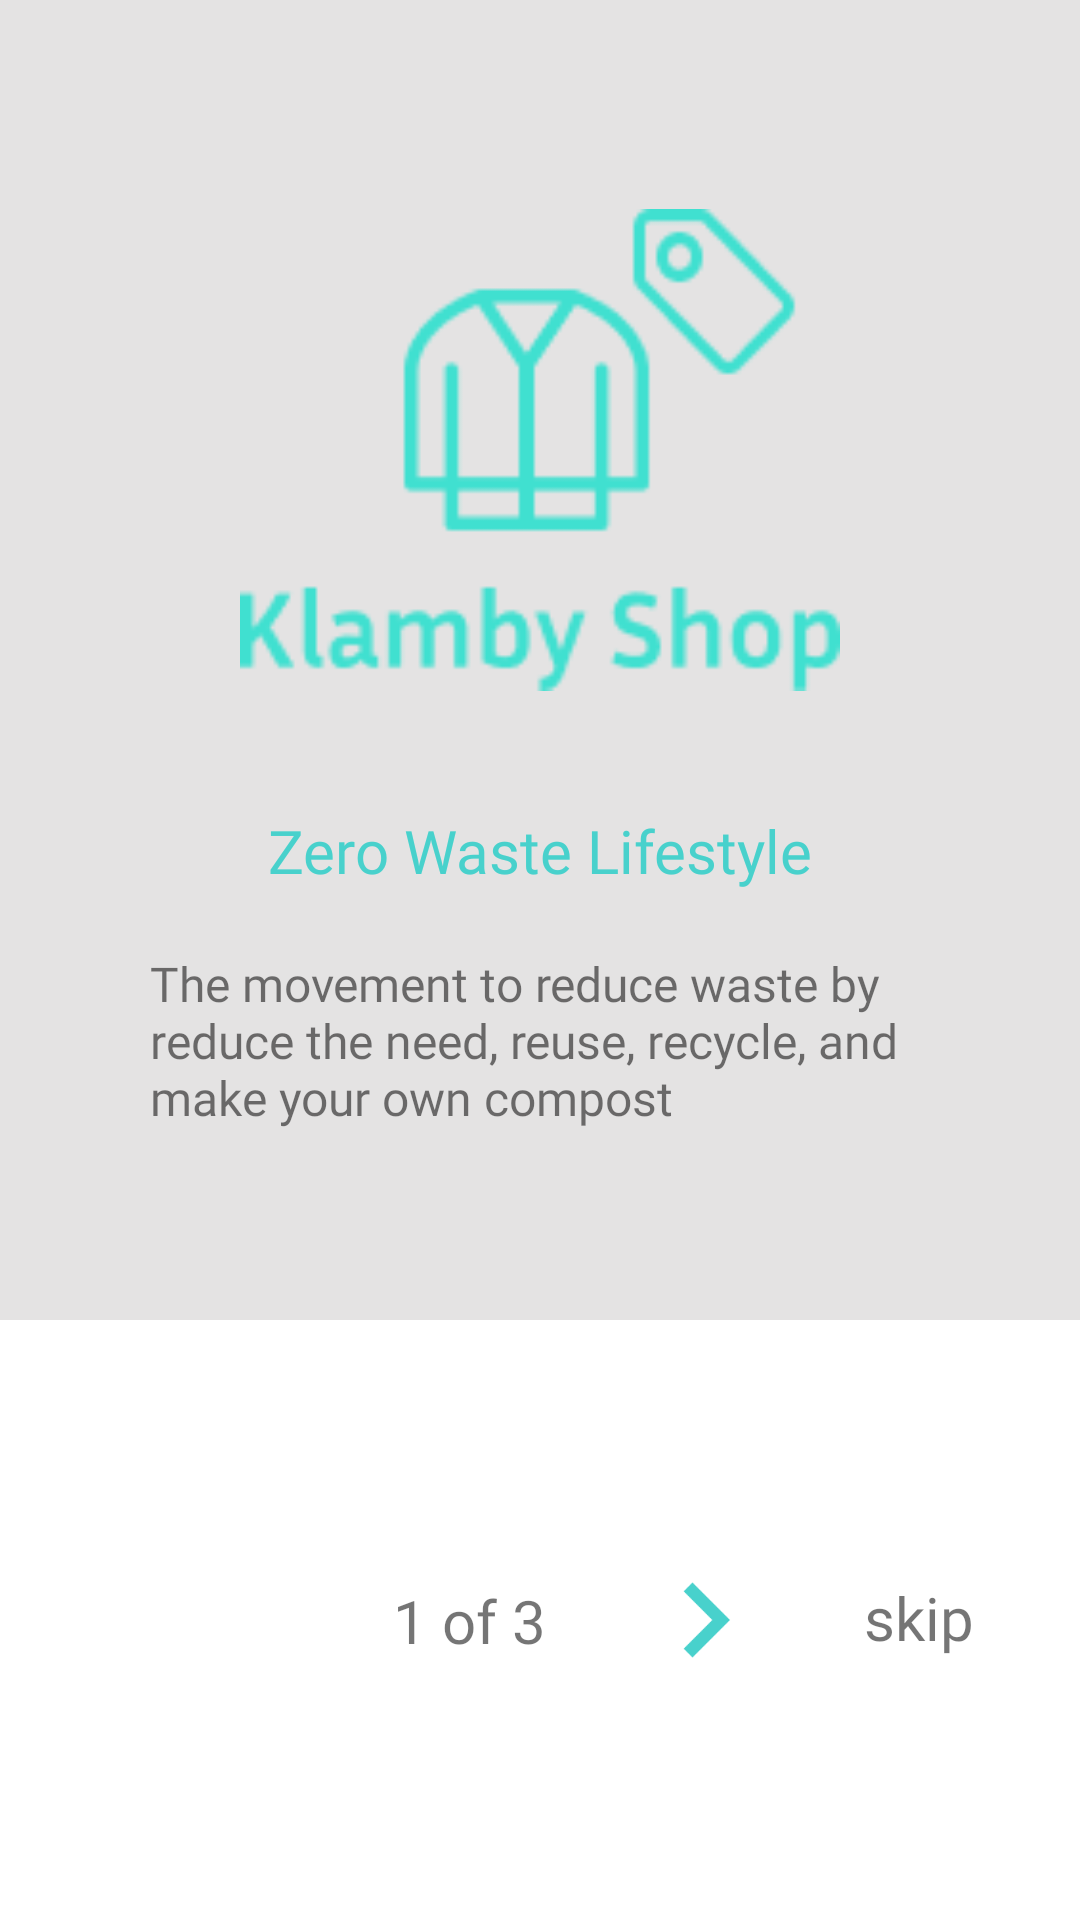

Point at icon controls on the screen. Image size 1080 x 1920, points as (x,y).
keyboard arrow right: (707,1620)
